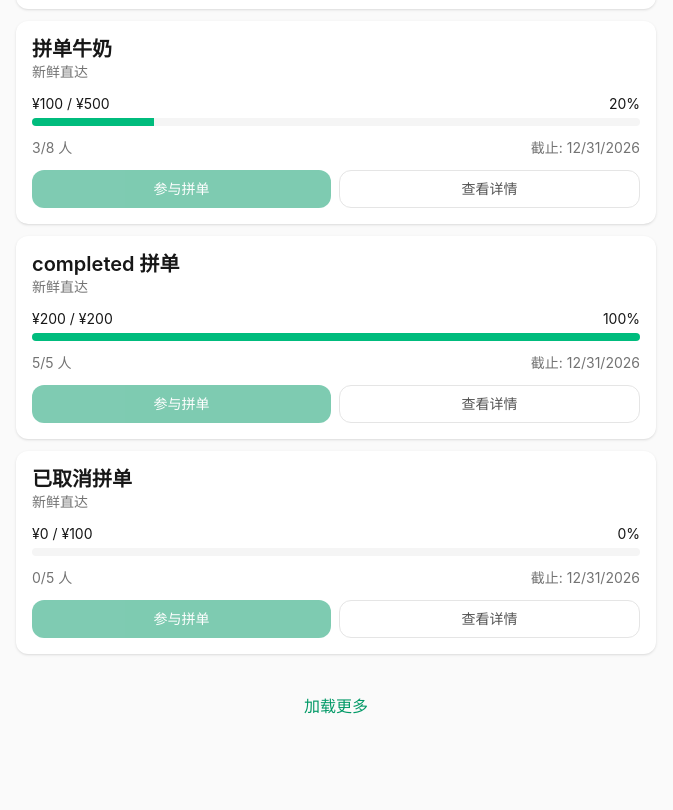
SharedKitchen/GroupOrders 拼单列表 › hasMore=true 时显示'加载更多'按钮，点击触发分页加载
The image size is (673, 810).
(page scrolled)
Click the button "加载更多": (336, 706) [16,682,656,730]
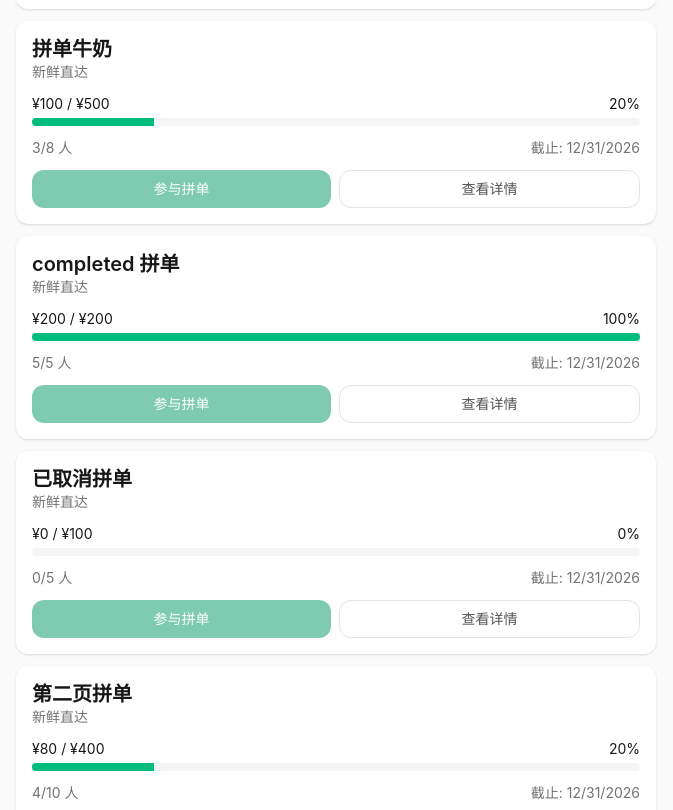
expect the heading "第二页拼单" is shown: met, box [32,682,132,706]
